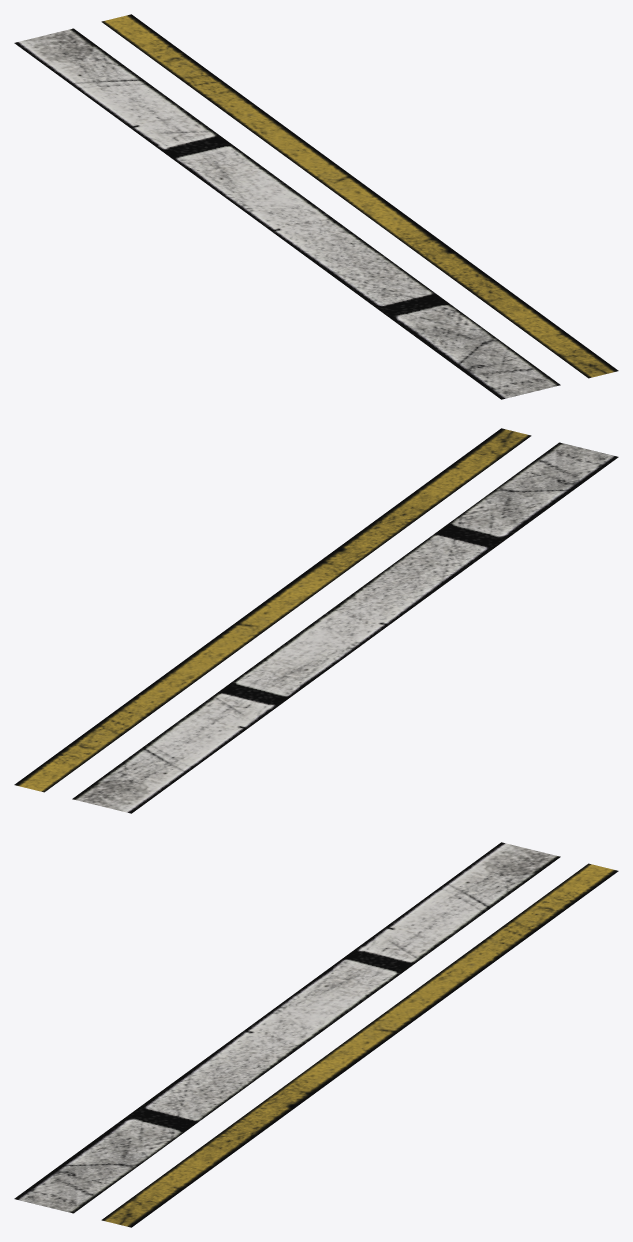
File: DECAL_Ground_00.fbx
3 renders of one model, top to bottom at view 1: azimuth 30°, elevation 25°; view 2: azimuth 150°, elevation 25°; view 3: azimuth 330°, elevation 25°, orthographic.
Parts seen in each view (by area): view 1: DECAL_Ground_00; view 2: DECAL_Ground_00; view 3: DECAL_Ground_00.
Boxes of the visible parts, x1,y1,x2,y2 form: DECAL_Ground_00: [14, 14, 618, 399]; DECAL_Ground_00: [14, 428, 618, 813]; DECAL_Ground_00: [14, 842, 618, 1227].
Size of the model in its own units: 34.84 by 0.00065 by 250.
1 material, 1 textured.
